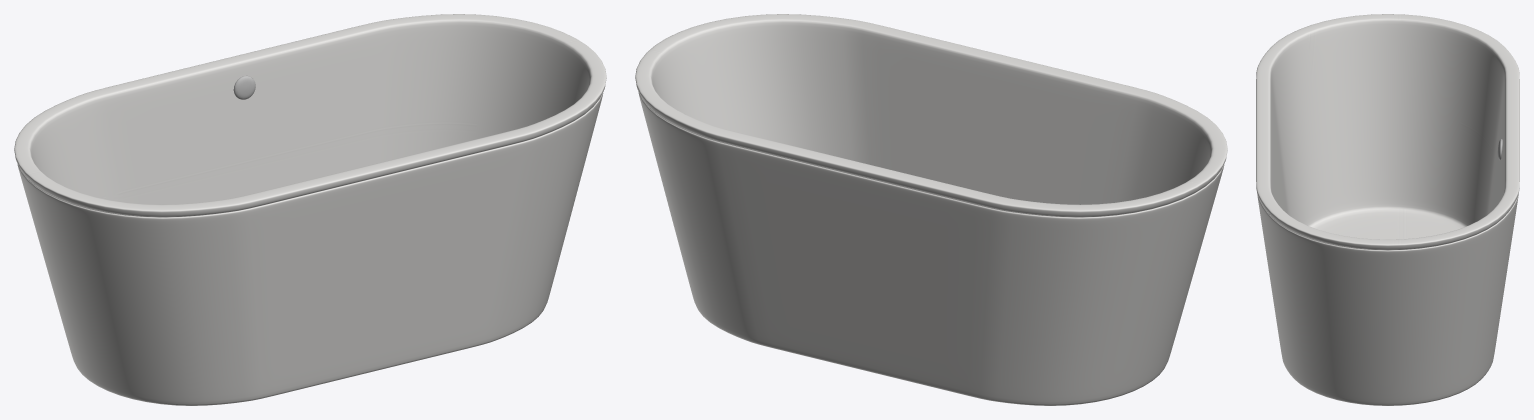
File: A23DMOD_FBX.fbx
3 renders of one model, left to right at view 1: azimuth 30°, elevation 25°; view 2: azimuth 150°, elevation 25°; view 3: azimuth 270°, elevation 25°, orthographic. The views are drawn at different scales.
Parts seen in each view (by area): view 1: A23D; view 2: A23D; view 3: A23D.
Boxes of the visible parts, x1,y1,x2,y2 form: A23D: [14, 14, 606, 405]; A23D: [635, 14, 1227, 405]; A23D: [1256, 14, 1519, 405].
Bounding box in the file's own units: 159 × 59.42 × 76.79.
Materials: 2 (2 with a texture image).
